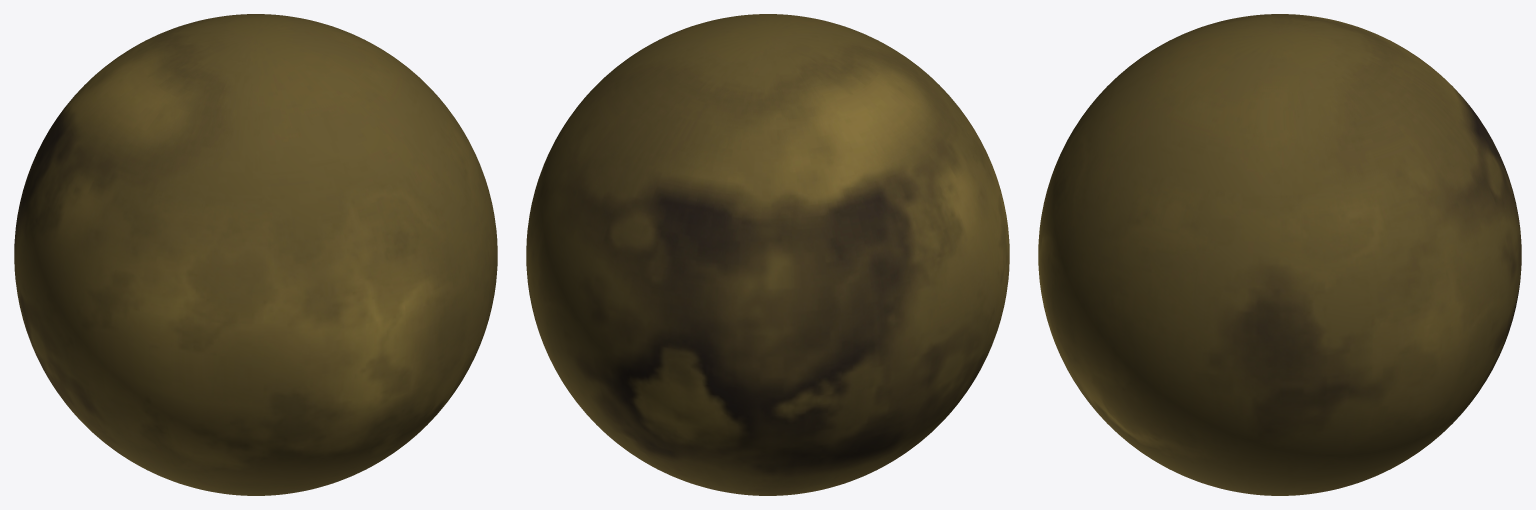
Rendered from planet-3.glb.
3 views of the same model, side by side, from view 1: azimuth 30°, elevation 25°; view 2: azimuth 150°, elevation 25°; view 3: azimuth 270°, elevation 25° (orthographic).
Visible parts, largest first — view 1: kepler-62e; view 2: kepler-62e; view 3: kepler-62e.
Part boxes in pixels (left/top/right/bottom): kepler-62e: left=14, top=14, right=497, bottom=495; kepler-62e: left=526, top=14, right=1009, bottom=495; kepler-62e: left=1038, top=14, right=1521, bottom=495.
Size of the model in its own units: 1.67 by 1.67 by 1.67.
1 material, 1 textured.
